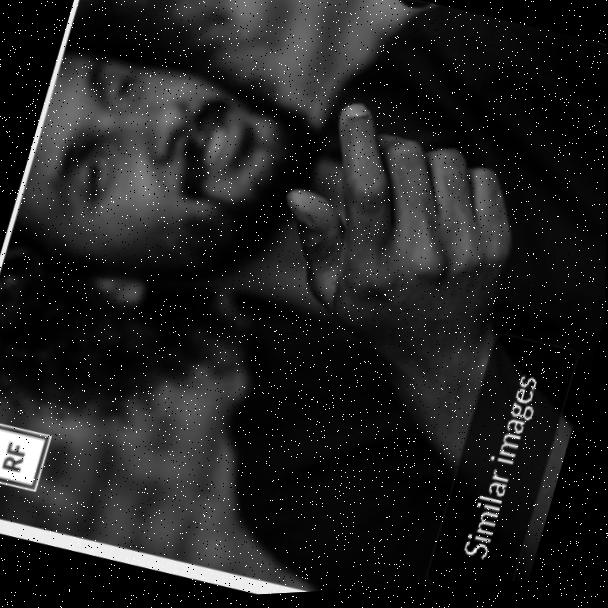five: (255, 70, 559, 370)
